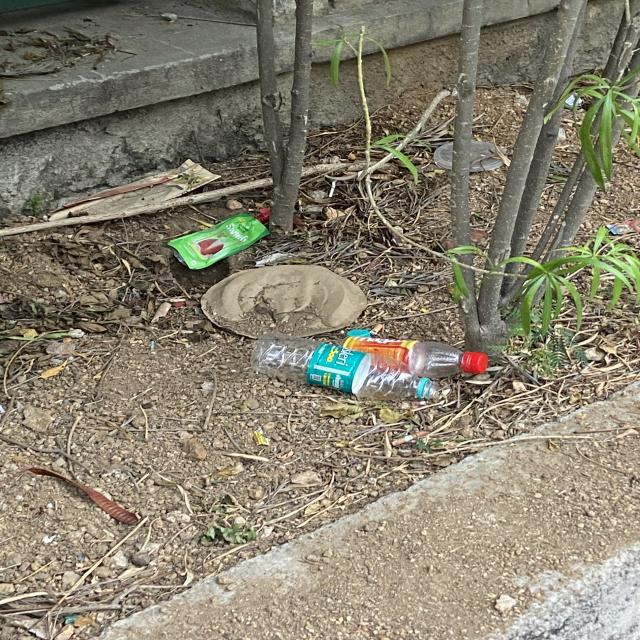paper: (200, 265, 367, 338)
plastic: (250, 333, 436, 402), (343, 336, 488, 378), (470, 140, 509, 172), (434, 141, 454, 169)
wrapper: (167, 213, 269, 270)
